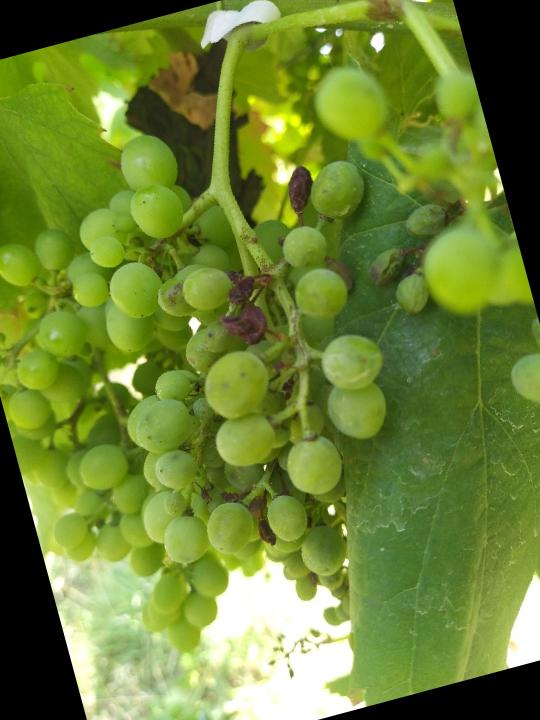grape: (55, 76, 469, 617)
